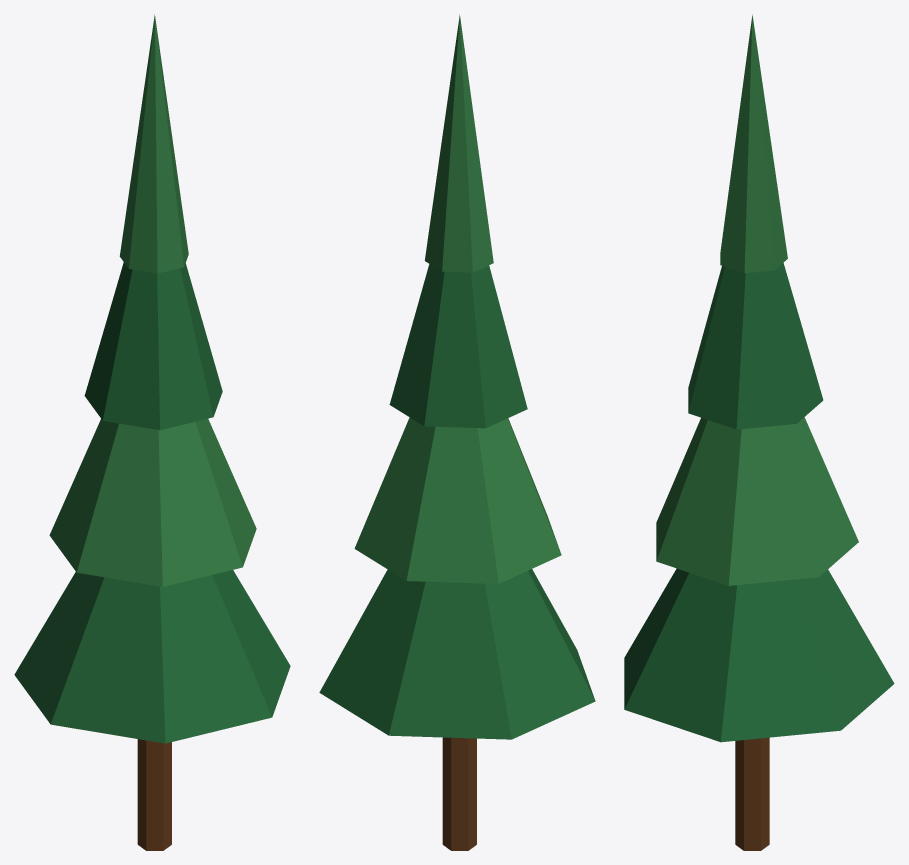
The model's file is nature2_pine_tall.glb.
3 views of the same model, side by side, from view 1: azimuth 30°, elevation 25°; view 2: azimuth 150°, elevation 25°; view 3: azimuth 270°, elevation 25° (orthographic).
Visible parts, largest first — view 1: pine_tall; view 2: pine_tall; view 3: pine_tall.
Part boxes in pixels (<box>): pine_tall: <box>14,14,290,850</box>; pine_tall: <box>319,14,595,850</box>; pine_tall: <box>624,14,894,850</box>.
Bounding box in the file's own units: 2.34 × 7.74 × 2.28.
